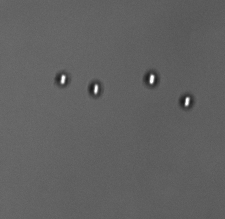Living Cell: (141, 69, 160, 88), (86, 78, 104, 98), (52, 70, 71, 88), (179, 92, 196, 110)
